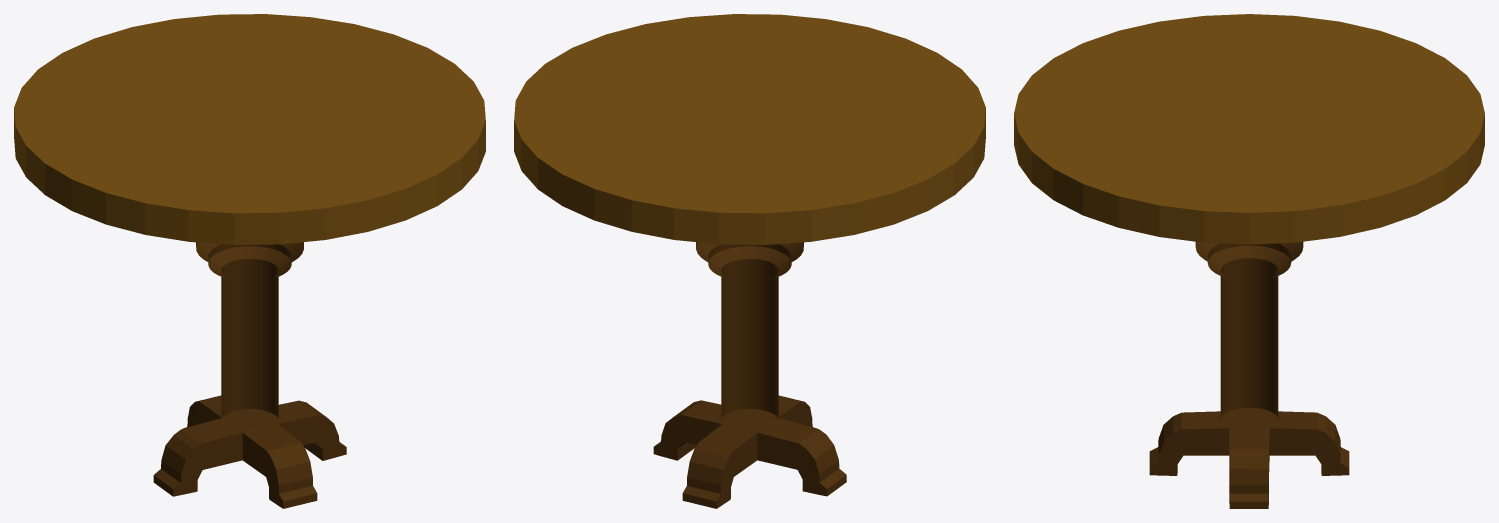
Rendered from table.fbx.
3 renders of one model, left to right at view 1: azimuth 30°, elevation 25°; view 2: azimuth 150°, elevation 25°; view 3: azimuth 270°, elevation 25°, orthographic.
Visible parts, largest first — view 1: Circle.001, Circle; view 2: Circle.001, Circle; view 3: Circle.001, Circle.
Boxes of the visible parts, x1=… form: Circle.001: x1=14, y1=14, x2=485, y2=244; Circle: x1=153, y1=242, x2=346, y2=508; Circle.001: x1=514, y1=14, x2=985, y2=244; Circle: x1=653, y1=242, x2=846, y2=508; Circle.001: x1=1014, y1=14, x2=1484, y2=244; Circle: x1=1149, y1=241, x2=1349, y2=508.
Bounding box in the file's own units: 526 × 436 × 526.
